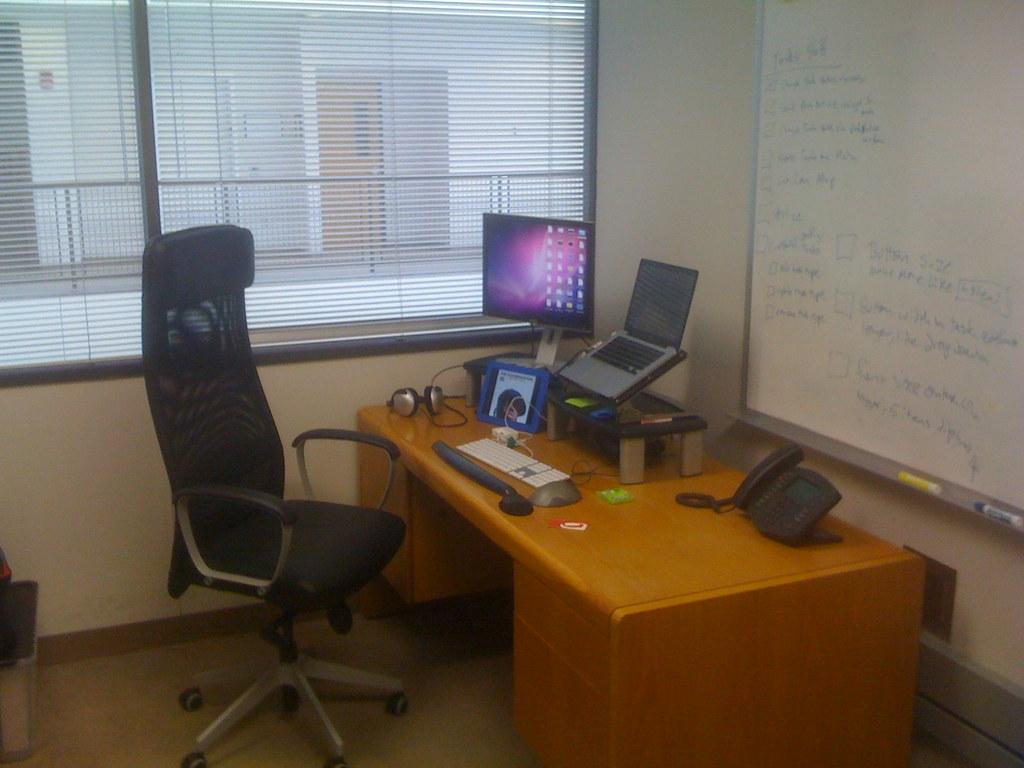computer: (463, 212, 596, 405), (558, 258, 699, 406)
